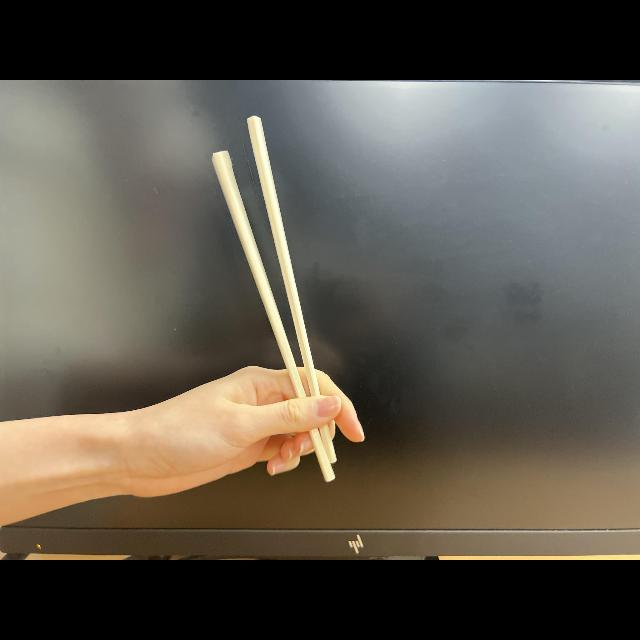stick: (190, 116, 362, 477)
